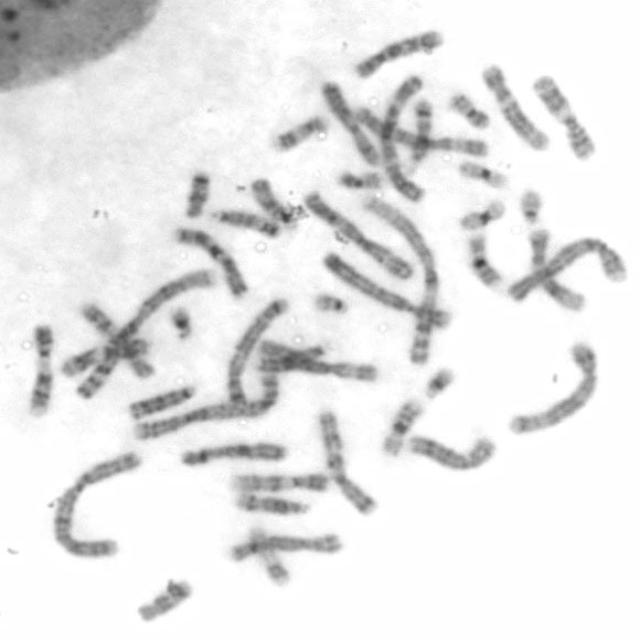A1: (72, 266, 216, 405), (357, 193, 442, 369)
A2: (132, 371, 282, 441), (51, 450, 143, 563)
A3: (301, 185, 416, 282), (376, 73, 433, 204)
B4: (320, 249, 459, 332), (506, 234, 629, 304)
B5: (503, 342, 603, 436), (225, 296, 291, 404)
C10: (77, 301, 159, 381), (350, 29, 447, 82)
C11: (531, 72, 598, 162), (60, 338, 151, 378)
C12: (480, 61, 552, 154), (523, 227, 589, 316)
C6: (352, 103, 492, 159), (257, 334, 383, 382)
C7: (319, 407, 382, 517), (172, 226, 252, 298)
C8: (405, 430, 498, 472), (228, 532, 344, 564)
C9: (24, 321, 56, 418), (229, 470, 330, 494)
D13: (126, 384, 202, 422), (255, 344, 332, 374)
D14: (404, 96, 436, 173), (233, 492, 314, 518)
D15: (247, 175, 296, 225), (208, 207, 282, 239)
E16: (382, 398, 424, 458), (462, 233, 504, 290)
E17: (245, 523, 298, 589), (271, 114, 331, 152)
E18: (135, 577, 195, 623), (182, 171, 212, 220)
F19: (457, 156, 510, 192), (458, 197, 508, 233)
F20: (448, 91, 492, 132), (339, 169, 384, 191)
G21: (423, 365, 460, 401), (168, 304, 195, 344)
G22: (308, 290, 352, 316), (519, 189, 543, 226)
X: (320, 76, 383, 167), (179, 441, 288, 469)
